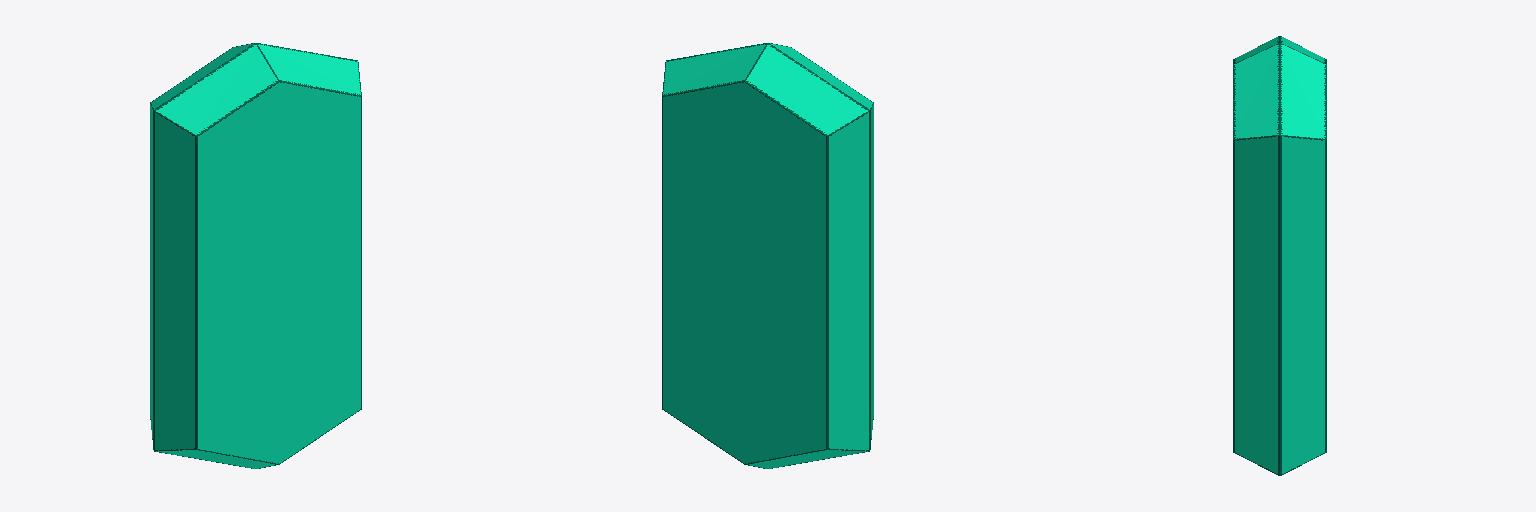
3 views of the same model, side by side, from view 1: azimuth 30°, elevation 25°; view 2: azimuth 150°, elevation 25°; view 3: azimuth 270°, elevation 25° (orthographic).
Parts seen in each view (by area): view 1: crystal_立方体; view 2: crystal_立方体; view 3: crystal_立方体.
Part boxes in pixels (x1,y1,x2,y2): crystal_立方体: (150, 43, 361, 468); crystal_立方体: (662, 43, 873, 468); crystal_立方体: (1233, 36, 1326, 475).
Size of the model in its own units: 1 by 2 by 0.3965.
1 materials, 1 textured.